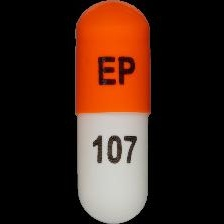68382-261: (0, 0, 224, 224)
